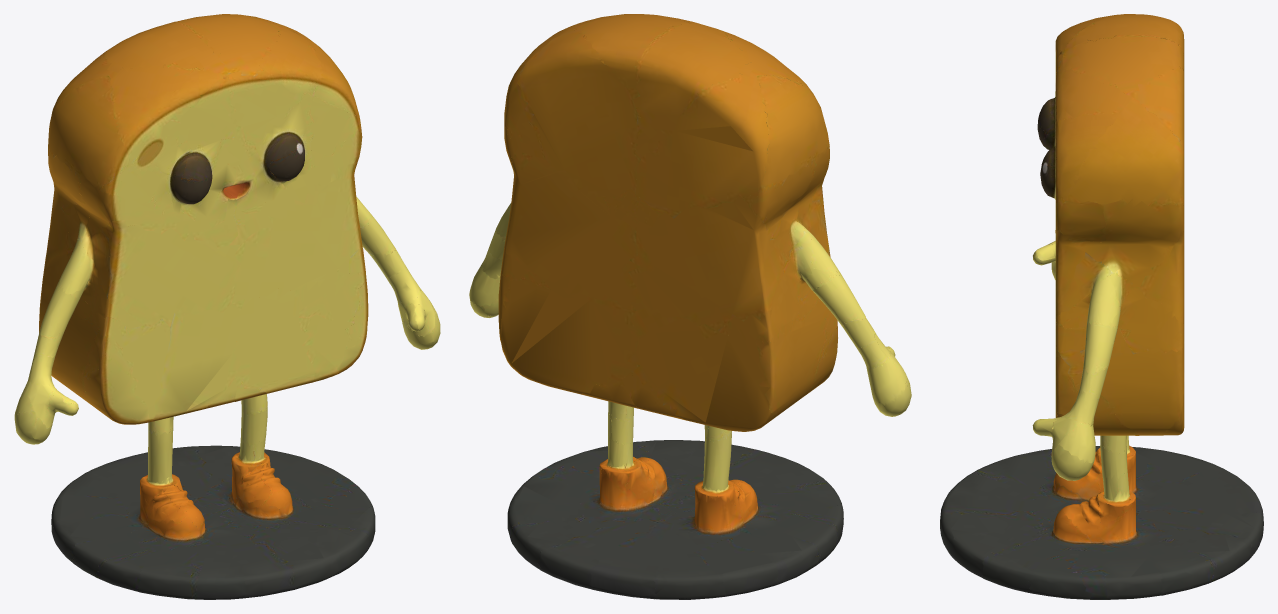
Rendered from glow-toast.glb.
The picture shows the model from 3 angles, left to right: view 1: azimuth 30°, elevation 25°; view 2: azimuth 150°, elevation 25°; view 3: azimuth 270°, elevation 25°; orthographic projection. The views are drawn at different scales.
Parts seen in each view (by area): view 1: Mesh_0; view 2: Mesh_0; view 3: Mesh_0.
Boxes of the visible parts, x1,y1,x2,y2 form: Mesh_0: (14, 14, 440, 599); Mesh_0: (469, 14, 911, 599); Mesh_0: (940, 14, 1263, 599).
Bounding box in the file's own units: 1.7 × 1.9 × 1.12.
Materials: 1 (1 with a texture image).
